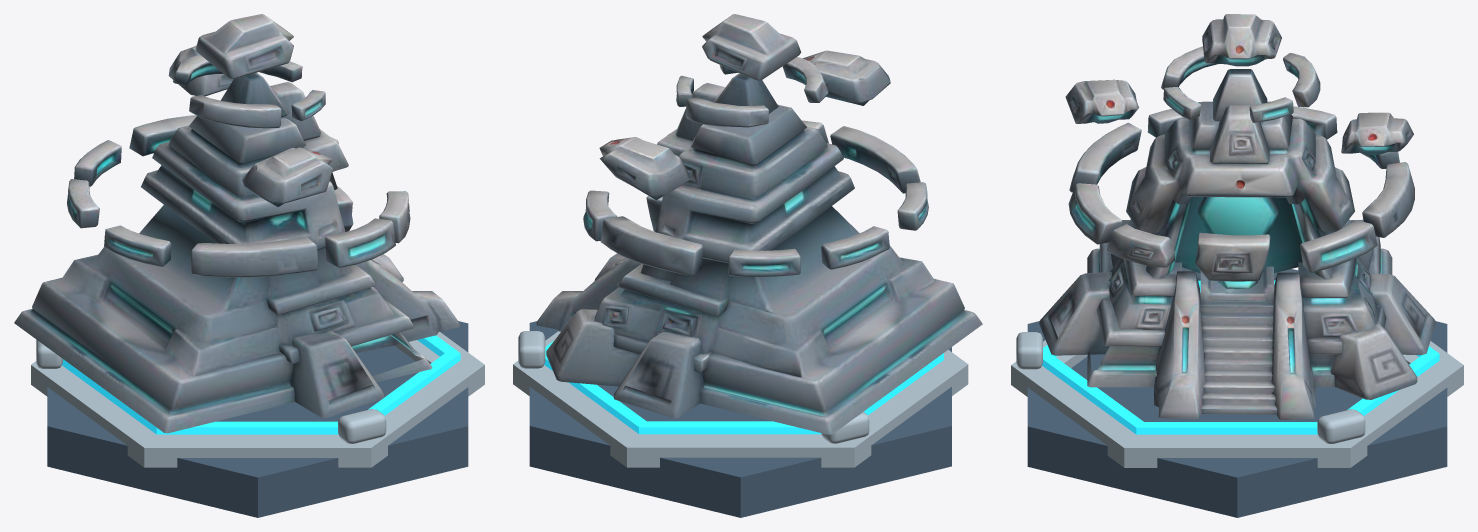
File: struct_mecha_base.glb
The picture shows the model from 3 angles, left to right: view 1: azimuth 30°, elevation 25°; view 2: azimuth 150°, elevation 25°; view 3: azimuth 270°, elevation 25°; orthographic projection.
Visible parts, largest first — view 1: tripo_node_d4a2980c-2de6-4c3e-847a-969eac7b87d9, Structure silhouette details; view 2: tripo_node_d4a2980c-2de6-4c3e-847a-969eac7b87d9, Structure silhouette details; view 3: tripo_node_d4a2980c-2de6-4c3e-847a-969eac7b87d9, Structure silhouette details.
Boxes of the visible parts, x1,y1,x2,y2 form: tripo_node_d4a2980c-2de6-4c3e-847a-969eac7b87d9: [14, 14, 460, 433]; Structure silhouette details: [31, 321, 484, 517]; tripo_node_d4a2980c-2de6-4c3e-847a-969eac7b87d9: [536, 14, 982, 434]; Structure silhouette details: [513, 321, 968, 517]; tripo_node_d4a2980c-2de6-4c3e-847a-969eac7b87d9: [1039, 14, 1435, 419]; Structure silhouette details: [1011, 280, 1463, 517].
Size of the model in its own units: 1.82 by 1.63 by 1.7.
4 materials, 1 textured.
